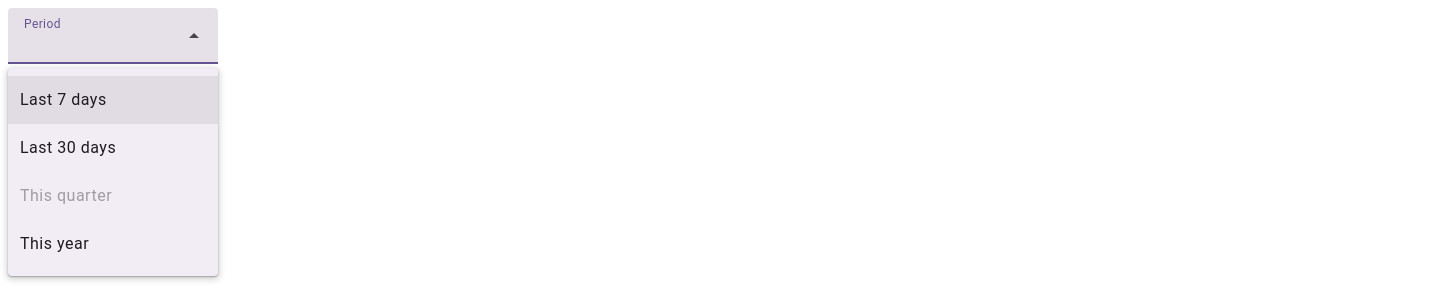
Test: Select › closes on a click outside
The image size is (1440, 299).
Earlier steps of the test are not shown.
Press the mouse on the element showing "Period Last 7 days Last 30 days This quarter This year": (113, 36) [8,8,1432,64]
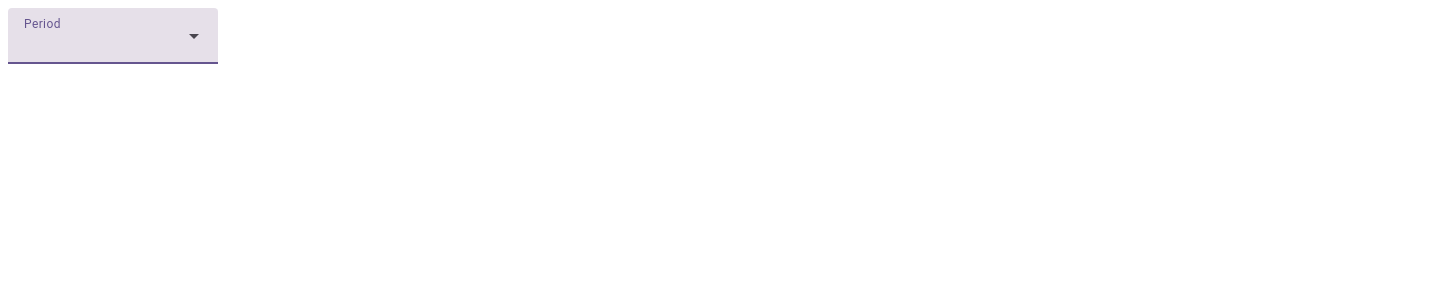
Now the list is gone
